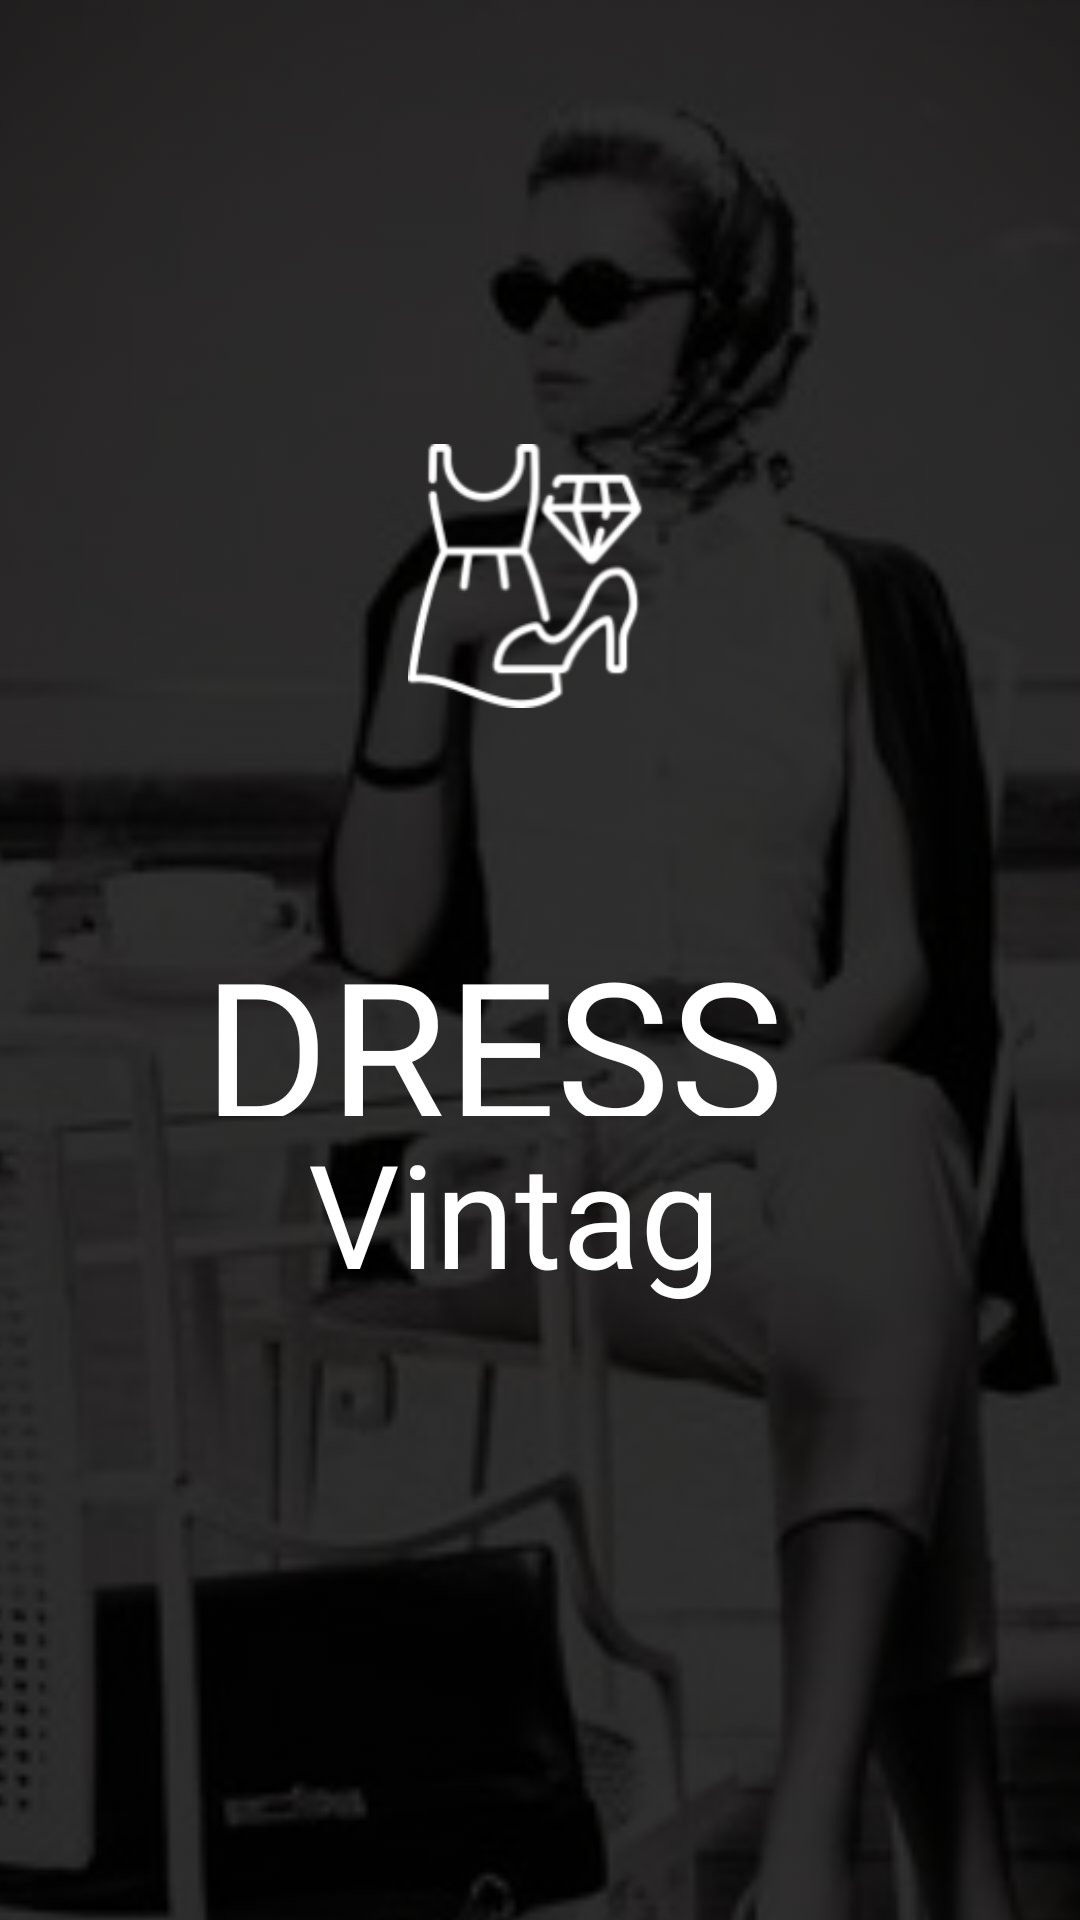

Screen size 1080 × 1920. Icon name, then its center in pixels as point (x, y):
moda: point (540, 576)
